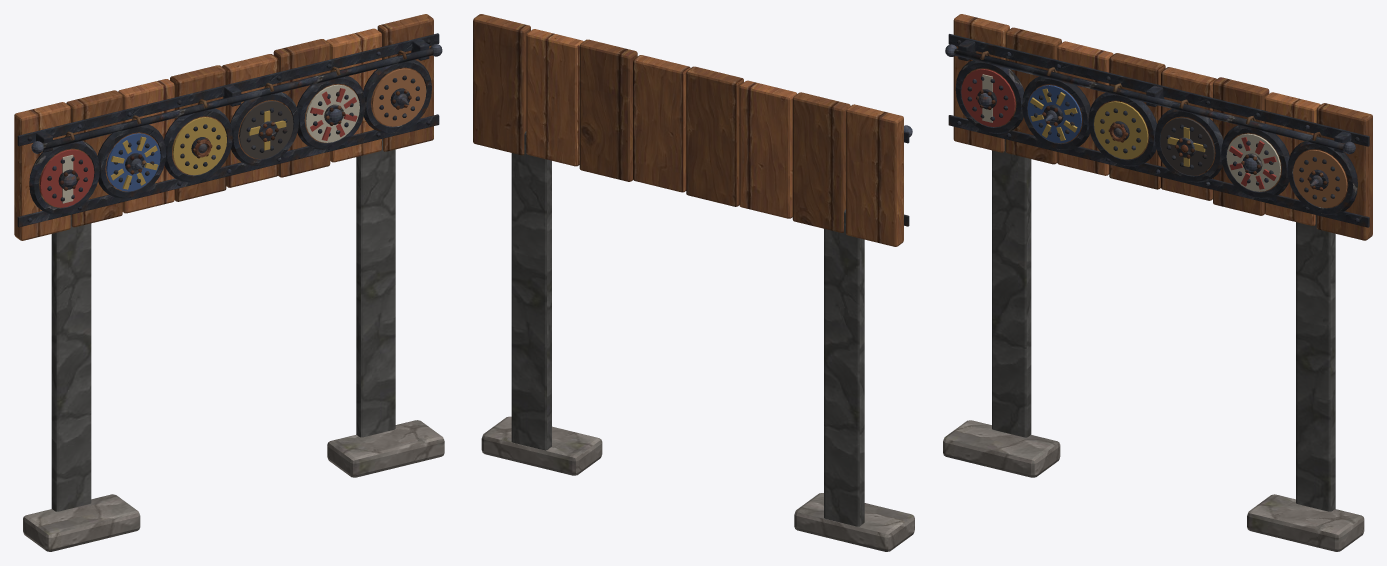
File: hs_buckler_rail.glb
3 renders of one model, left to right at view 1: azimuth 30°, elevation 25°; view 2: azimuth 150°, elevation 25°; view 3: azimuth 330°, elevation 25°, orthographic. The views are drawn at different scales.
Visible parts, largest first — view 1: model; view 2: model; view 3: model.
Boxes of the visible parts, left/top/right/bottom form: model: left=14, top=14, right=444, bottom=551; model: left=473, top=14, right=914, bottom=551; model: left=943, top=14, right=1372, bottom=551.
Bounding box in the file's own units: 1.52 × 1.46 × 0.17.
Materials: 16 (10 with a texture image).
